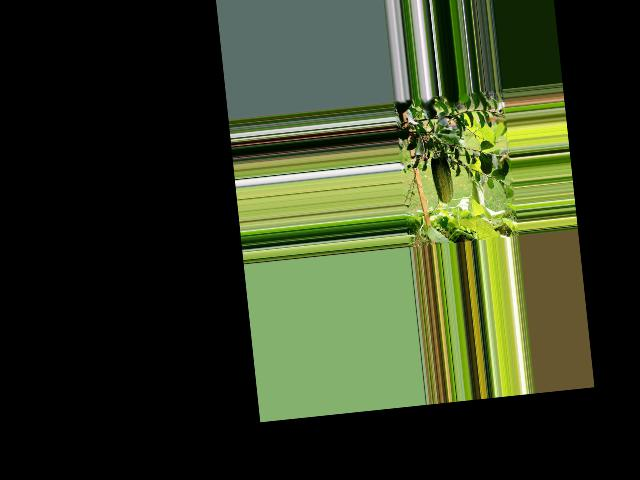cucumber: (428, 149, 454, 204)
